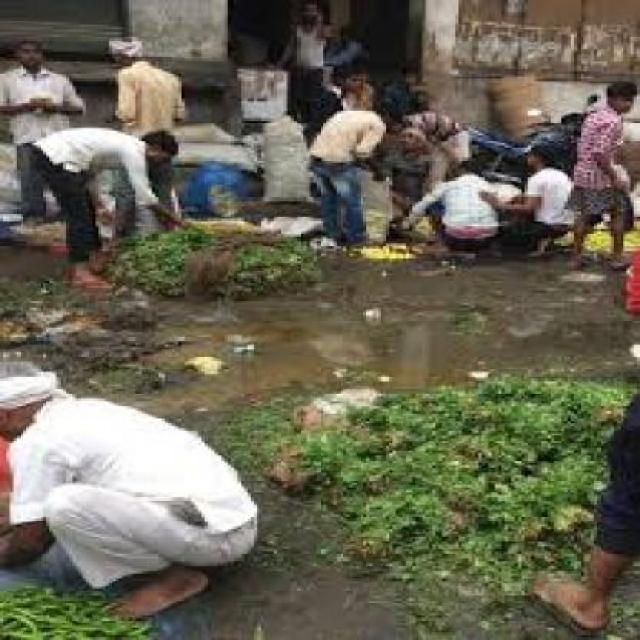garbage: (251, 385, 614, 540), (125, 225, 342, 304), (0, 268, 168, 362), (0, 598, 115, 637), (360, 239, 476, 274)
